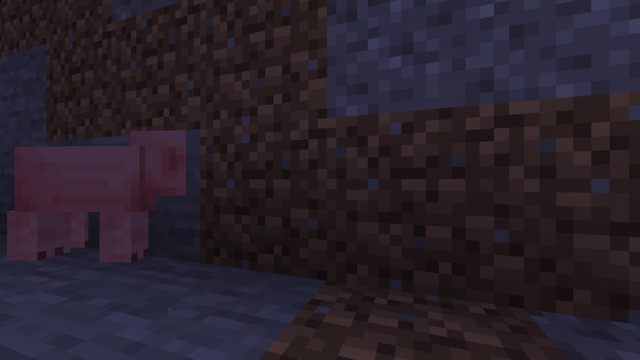cochons: (9, 137, 147, 274)
